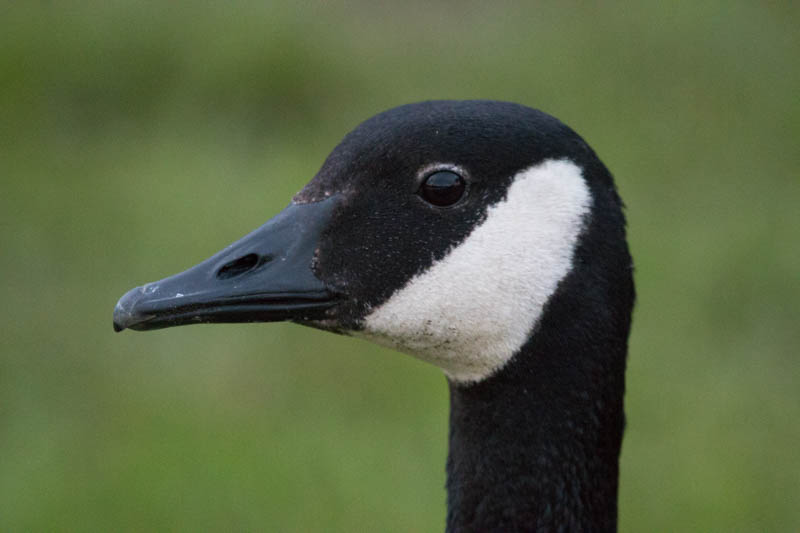goose-head: (113, 100, 635, 382)
